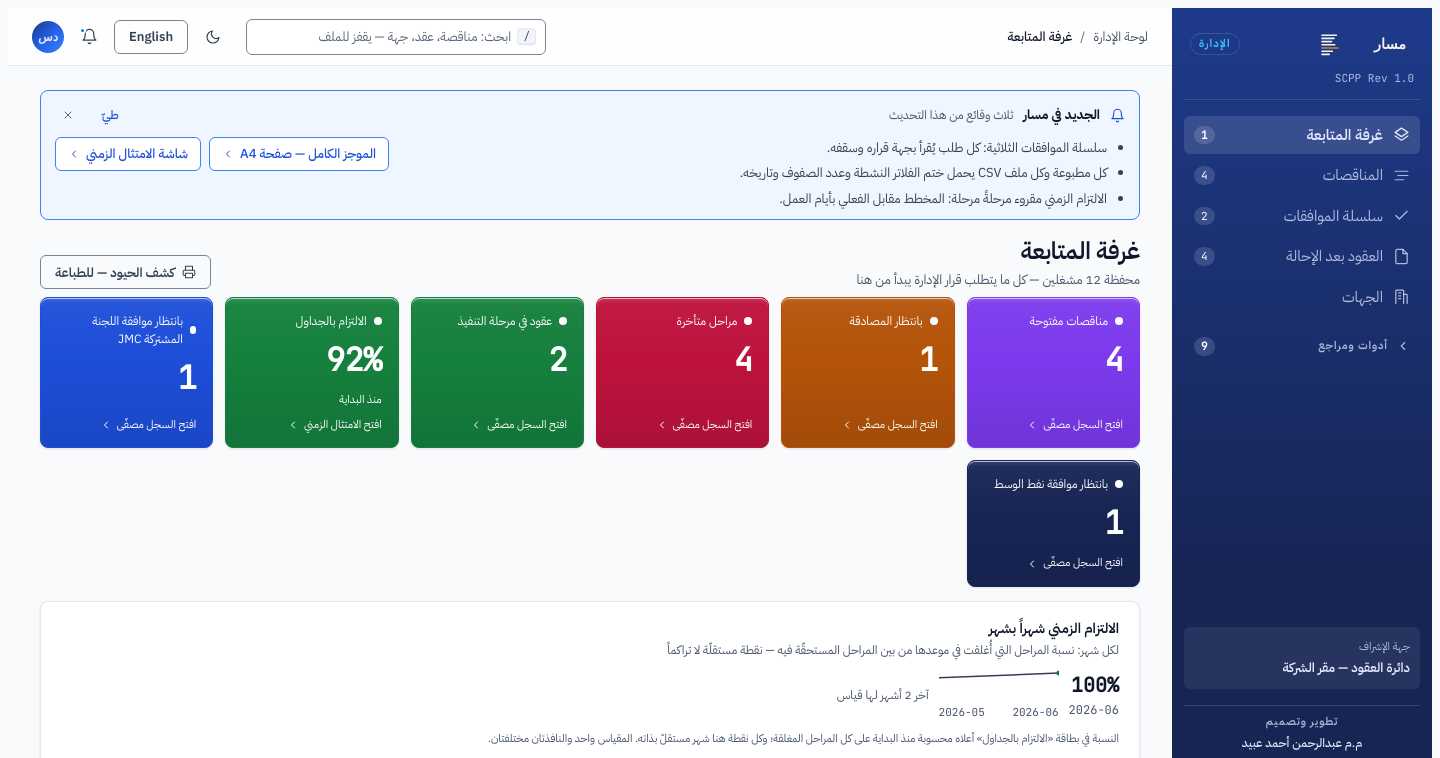
it: the «الجديد في مسار» strip on both landing screens › folds and unfolds without losing its dismissal affordance
Click the button "طيّ".
click(110, 115)  # box [91,101,130,129]
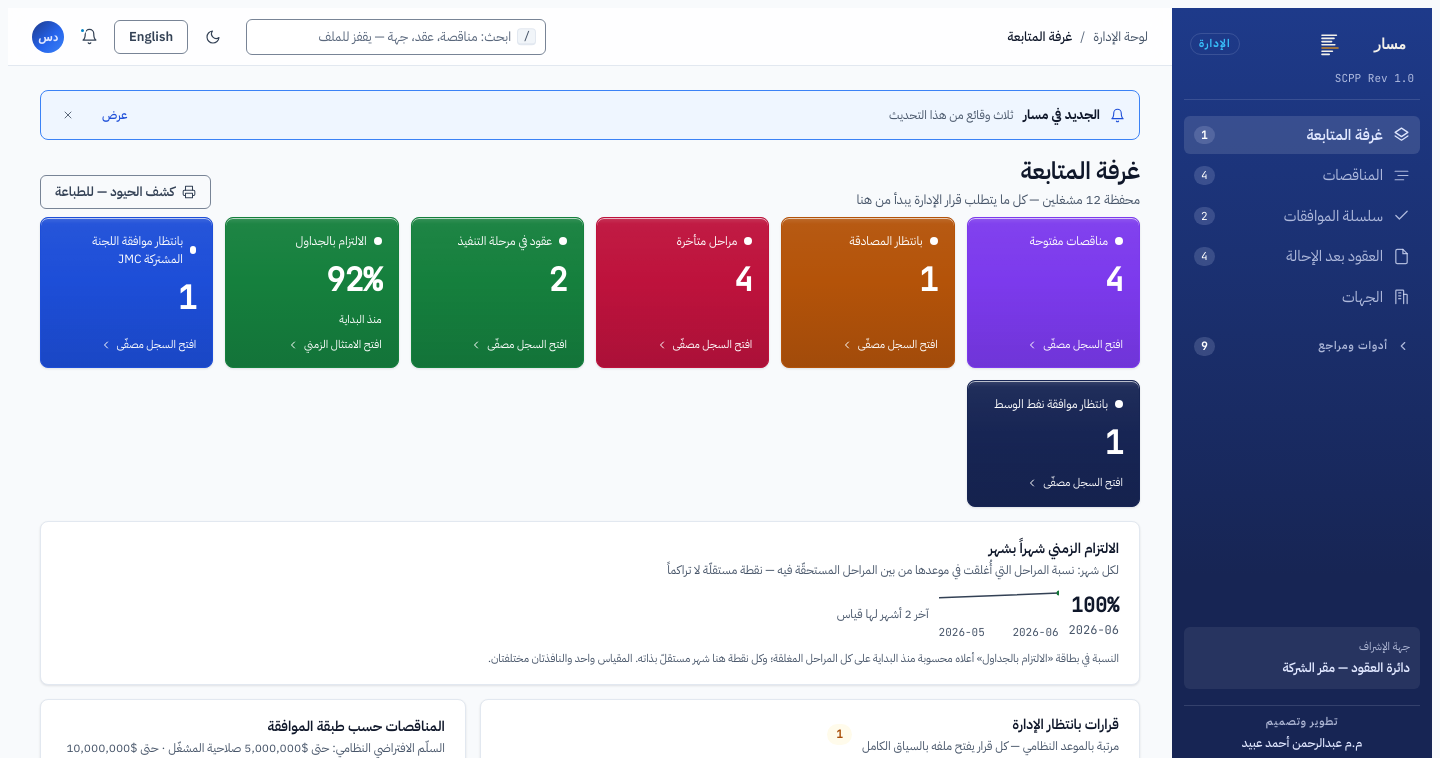
Expected: the element showing "الجديد في مسار ثلاث وقائع من هذا التحديث عرض" is shown, [40,90,1140,140]
Now the element with class "wn__body" is gone
Now the button "عرض" is collapsed, box [91,101,138,129]
